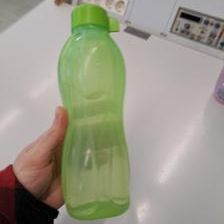bottle: (57, 4, 133, 224)
